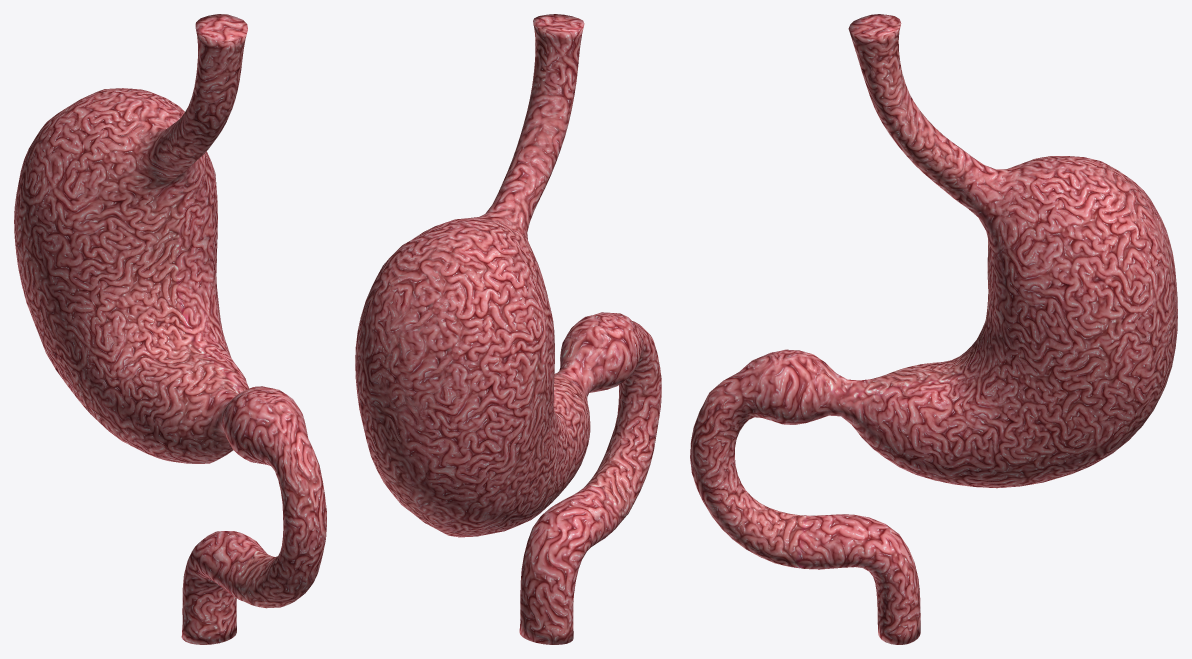
File: Estomago.fbx
3 renders of one model, left to right at view 1: azimuth 30°, elevation 25°; view 2: azimuth 150°, elevation 25°; view 3: azimuth 270°, elevation 25°, orthographic. The views are drawn at different scales.
Visible parts, largest first — view 1: Estomago; view 2: Estomago; view 3: Estomago.
Boxes of the visible parts, x1,y1,x2,y2 form: Estomago: (14, 14, 326, 644); Estomago: (355, 14, 661, 644); Estomago: (690, 14, 1177, 644).
Size of the model in its own units: 12353 by 41157 by 29838.
1 material, 1 textured.
